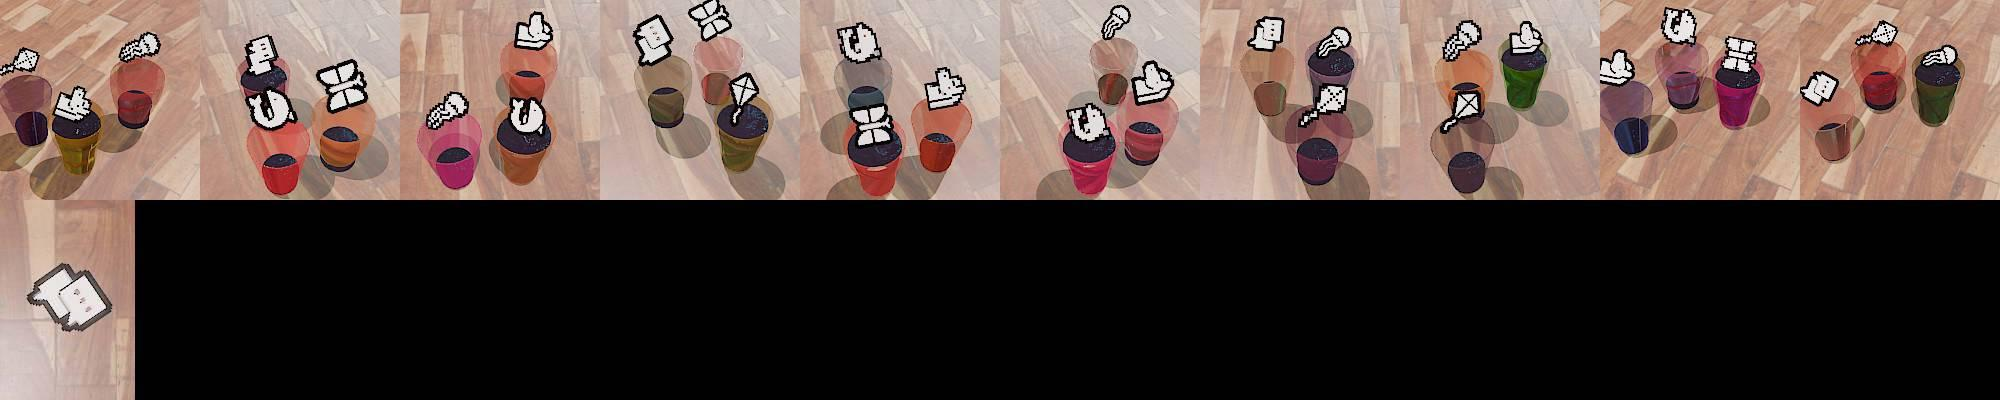icon: (26, 263, 115, 334), (317, 58, 370, 114), (245, 86, 299, 131), (1298, 83, 1349, 130), (632, 13, 676, 65), (1130, 60, 1177, 107), (1439, 84, 1483, 134), (848, 103, 896, 147), (836, 20, 882, 64), (923, 66, 966, 112), (1066, 101, 1112, 144), (726, 71, 761, 125), (688, 0, 732, 42), (1441, 19, 1483, 62), (425, 90, 470, 130), (513, 10, 554, 52), (1247, 15, 1286, 53), (1660, 6, 1697, 46), (1600, 48, 1637, 87), (244, 33, 280, 73), (53, 85, 93, 121), (1799, 71, 1840, 106), (117, 31, 160, 63), (511, 97, 546, 135), (1314, 26, 1352, 61), (1508, 20, 1545, 55), (1721, 34, 1759, 67), (1855, 19, 1899, 46), (0, 48, 40, 77), (1101, 4, 1131, 40), (1920, 45, 1957, 68)
